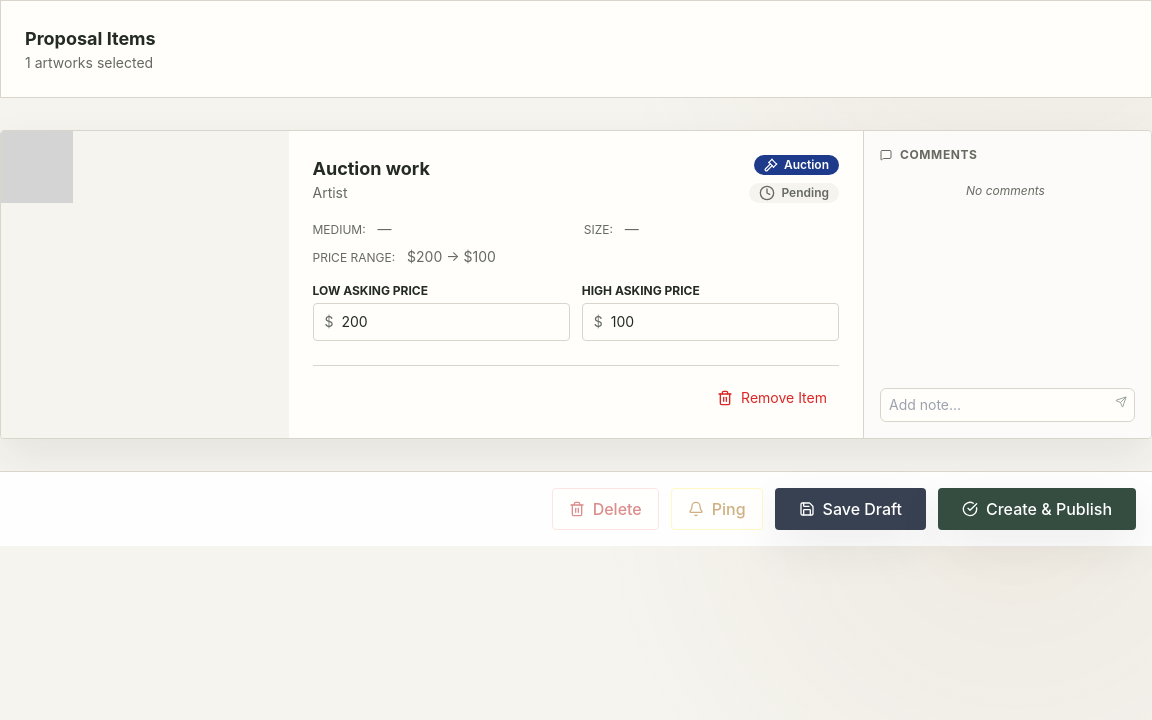
Test case: auction price terminology › uses low and high asking-price labels and validation in proposals
Expected: the text "Low Asking Price" is shown, x1=312 y1=283 x2=428 y2=298
Expected: the text "High Asking Price" is shown, x1=582 y1=283 x2=700 y2=298
What coordinates should you click on to do the following:
click the button "Create & Publish"
I would click on:
 (1037, 509)
Its box is x1=938 y1=488 x2=1136 y2=530.
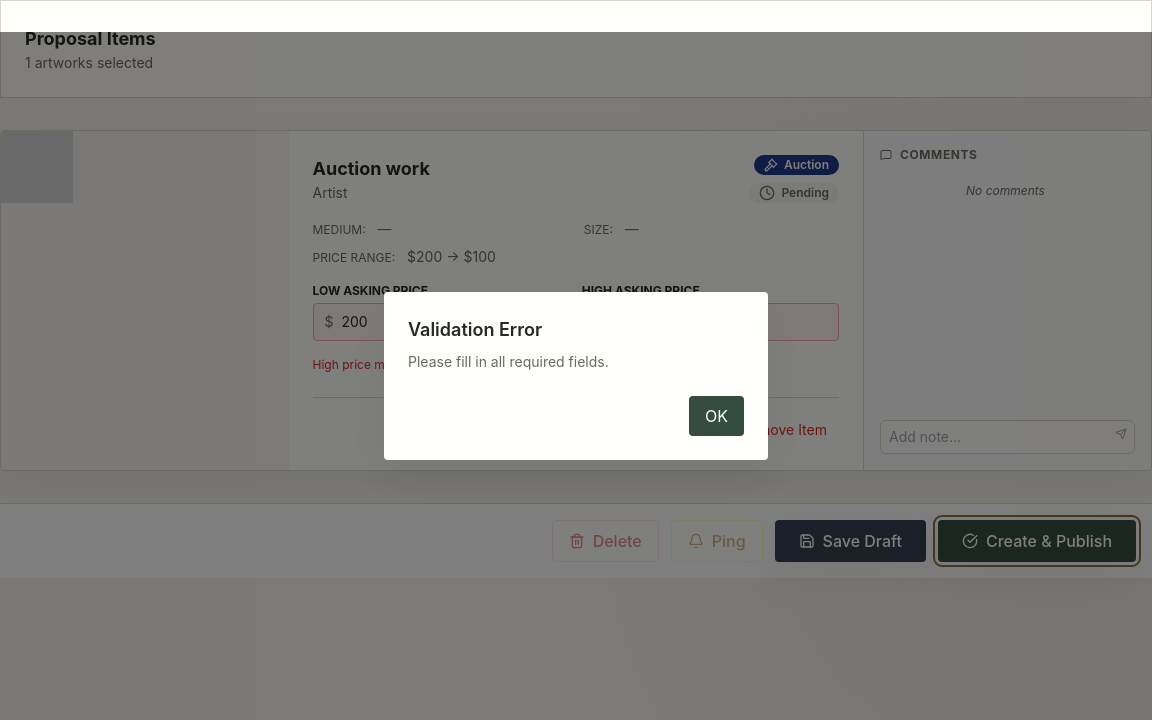
Expected: the text "High price must be greater than or equal to low price" is shown, x1=312 y1=357 x2=611 y2=372
